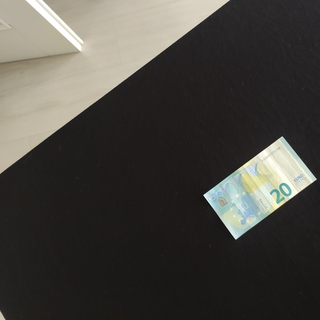20EUROBack: (203, 135, 317, 239)
